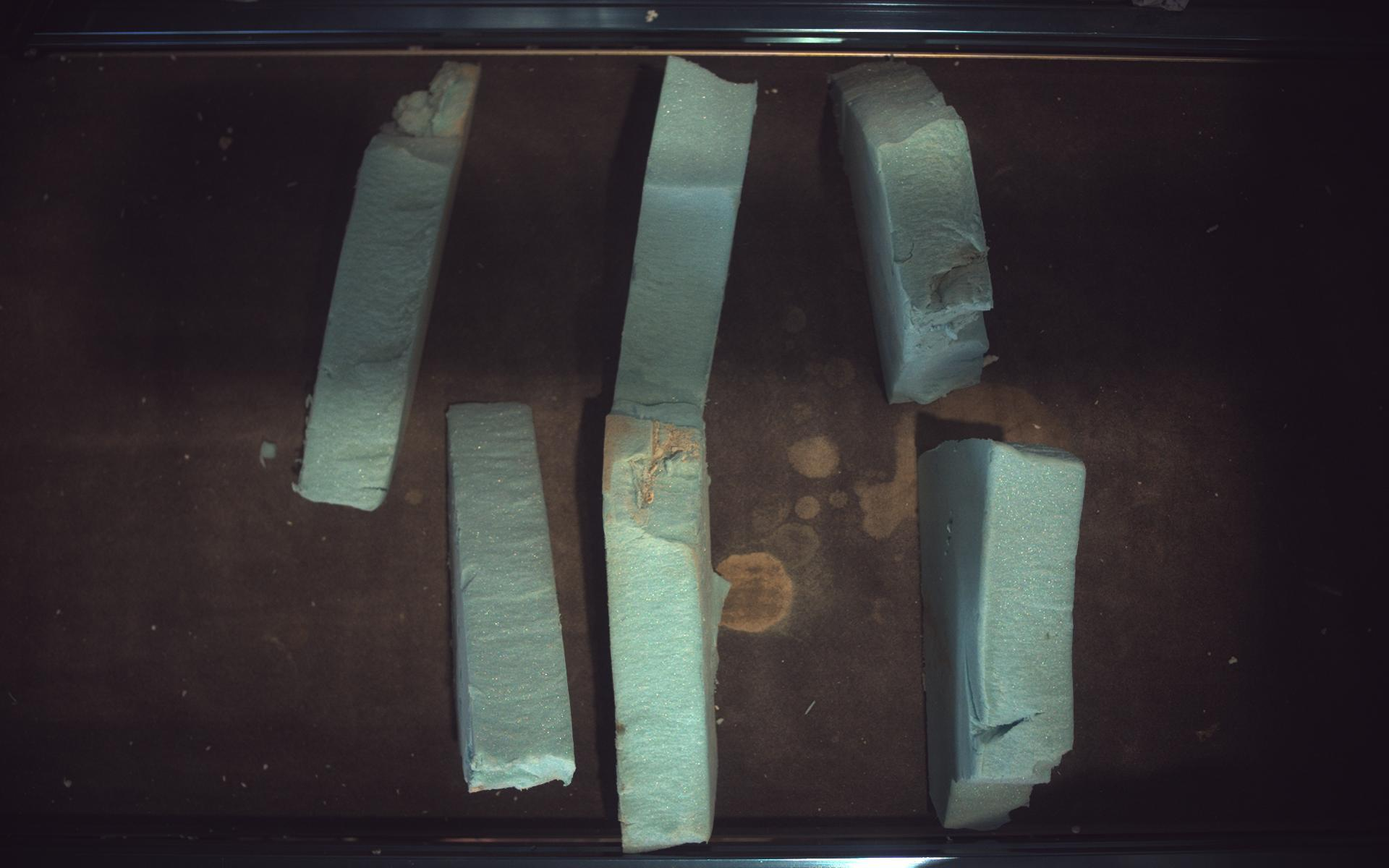foam: (294, 61, 480, 511), (920, 440, 1088, 831), (603, 398, 729, 854), (832, 60, 995, 404), (613, 56, 758, 410), (447, 403, 576, 793)
